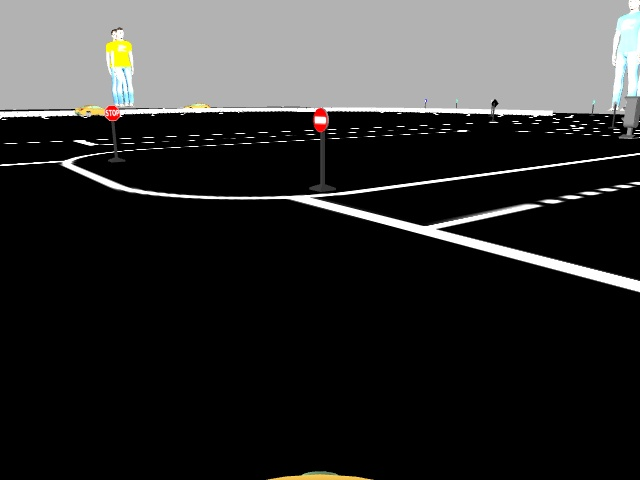NoEntry: (313, 109, 328, 130)
Stop: (102, 105, 118, 121)
